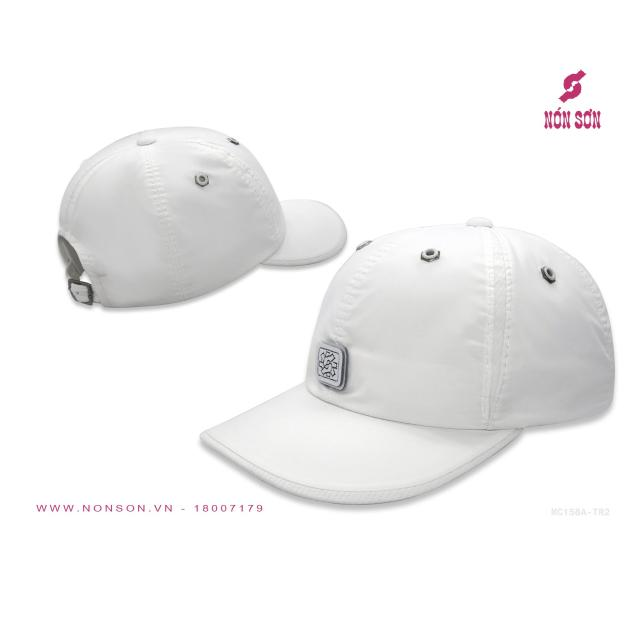no_helmet: (190, 211, 617, 508), (52, 118, 352, 315)
